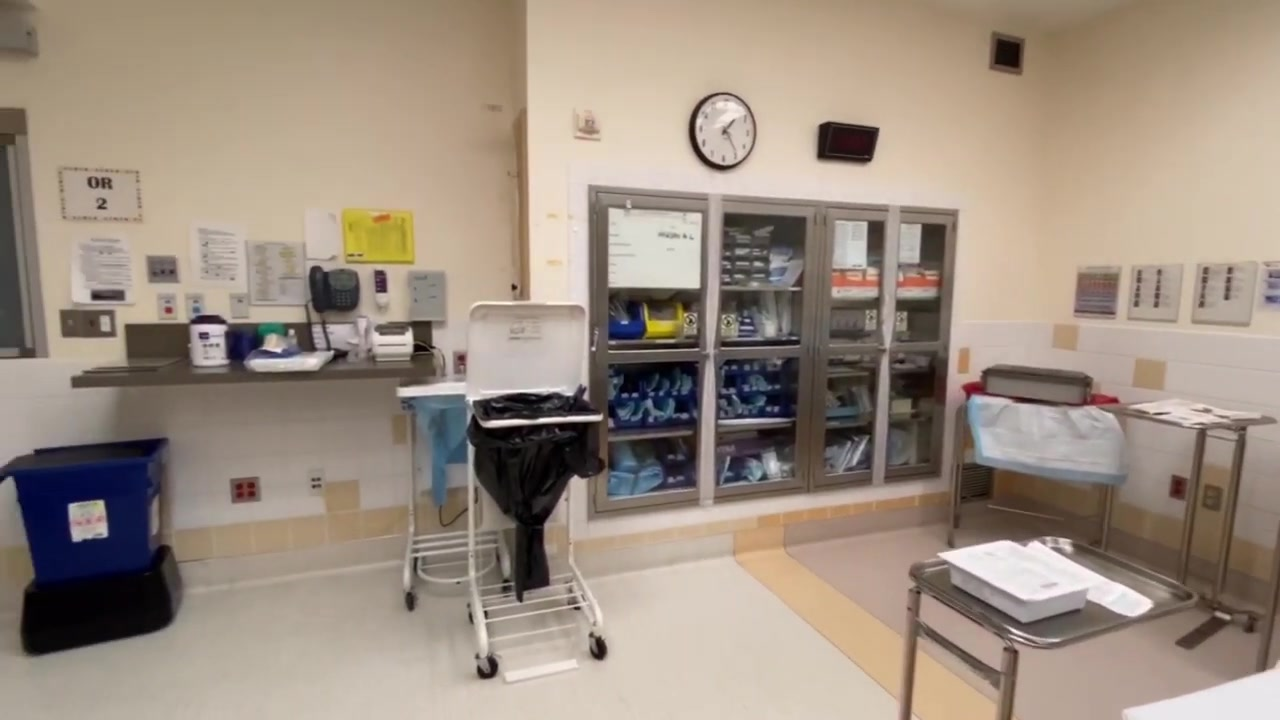cabinet: (586, 175, 958, 504)
countertop: (71, 352, 439, 390)
telephone: (308, 265, 361, 312)
utility_cart: (897, 536, 1197, 720), (1107, 399, 1280, 651)
waste_bin: (467, 384, 612, 672), (1, 438, 184, 657), (395, 381, 518, 610)
